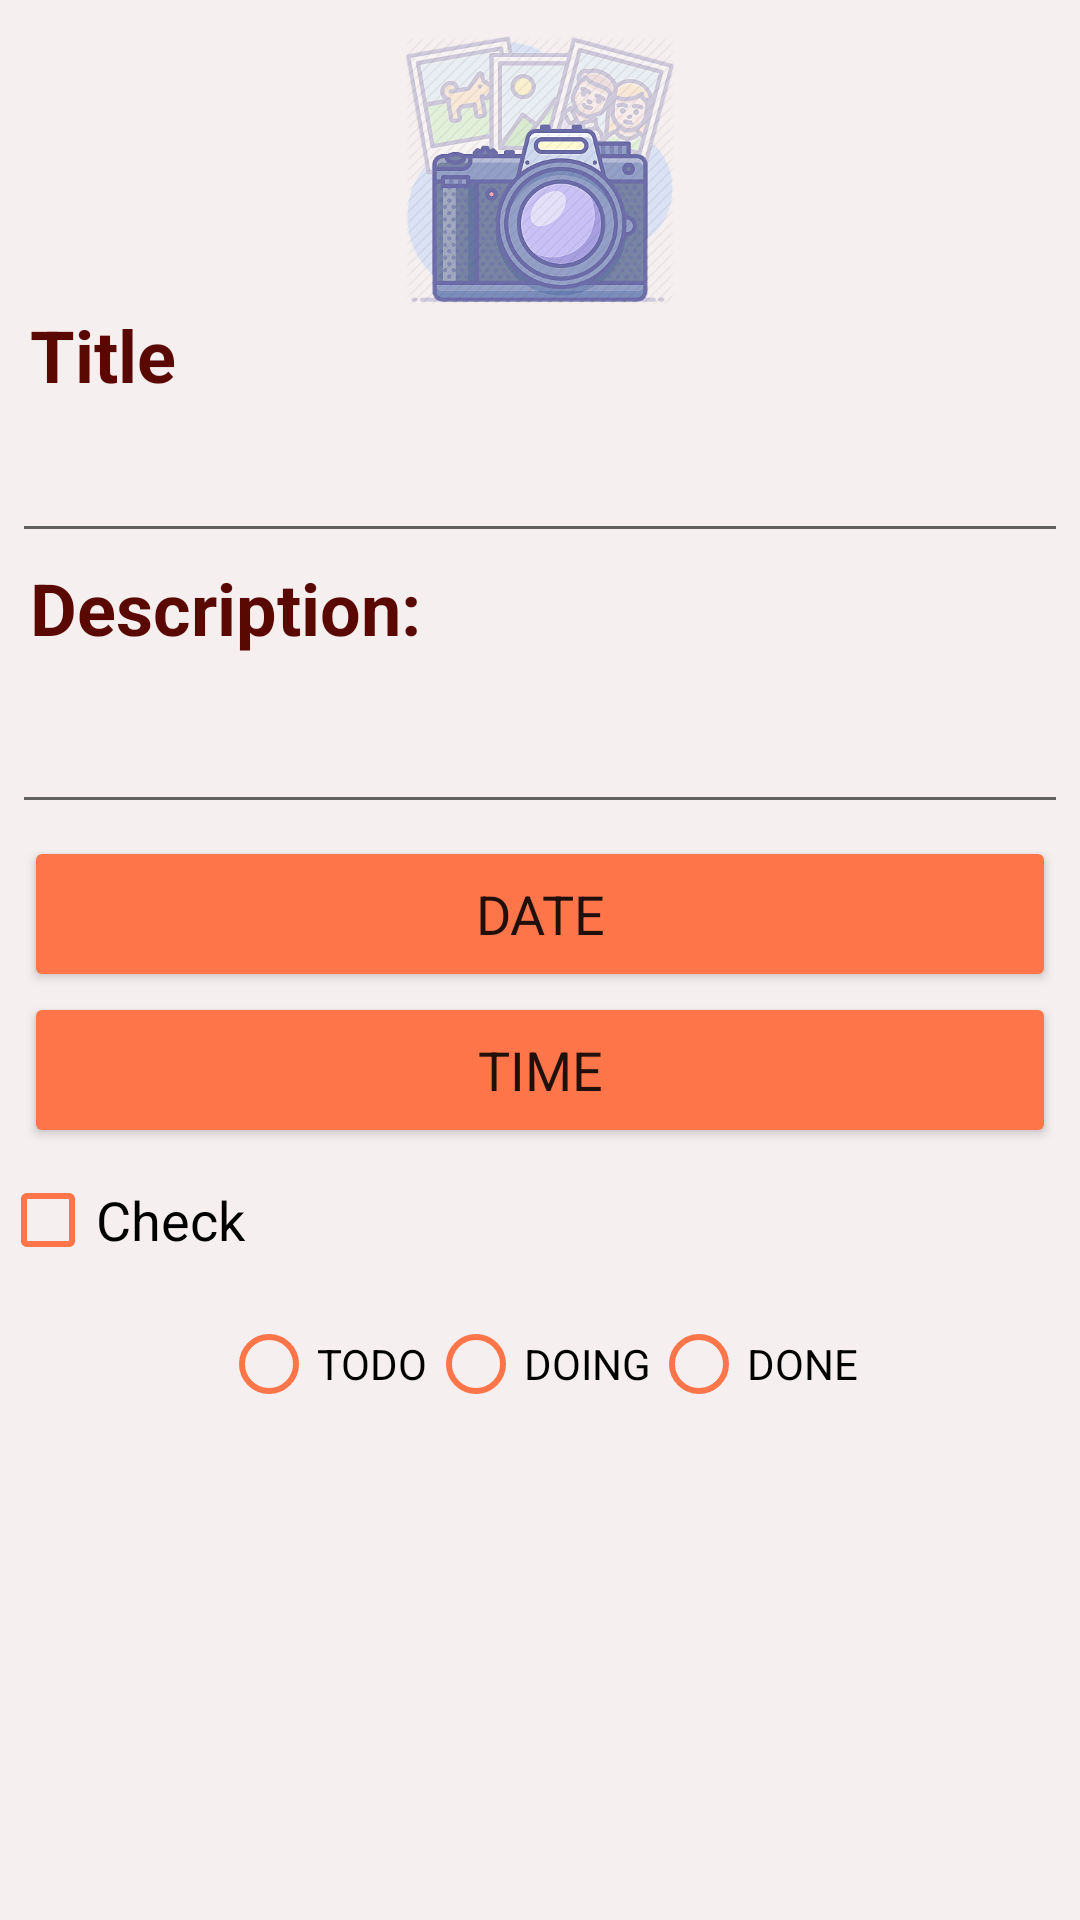

Named icons in this screenshot (1080w x 1920h) and their centers, (x,y):
camera: (539,169)
